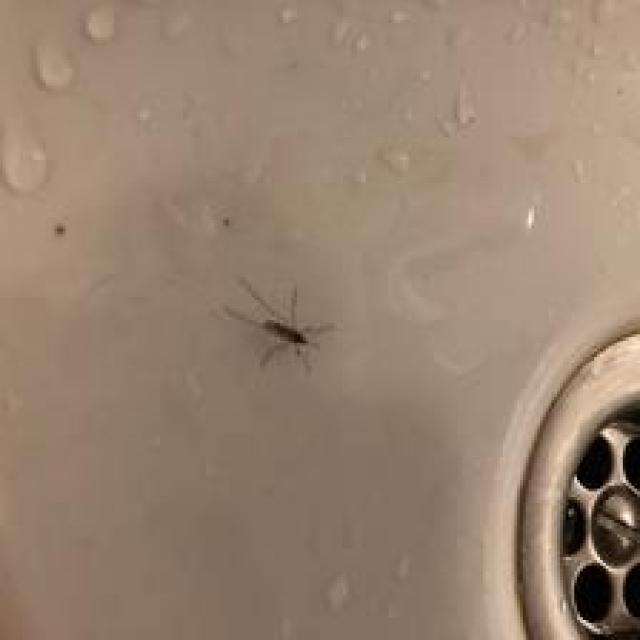Culex: (223, 276, 337, 376)
